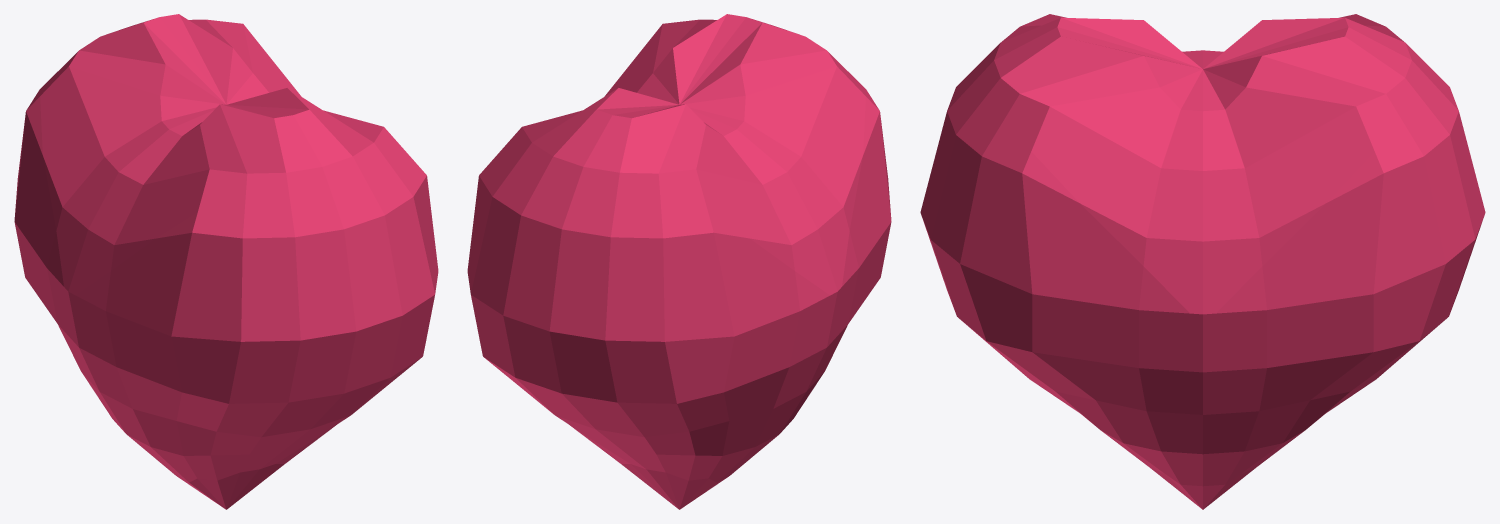
File: heart.fbx
3 views of the same model, side by side, from view 1: azimuth 30°, elevation 25°; view 2: azimuth 150°, elevation 25°; view 3: azimuth 270°, elevation 25° (orthographic). The views are drawn at different scales.
Parts seen in each view (by area): view 1: Sphere, Sphere.001; view 2: Sphere, Sphere.001; view 3: Sphere, Sphere.001.
Boxes of the visible parts, <box> form: Sphere: <box>14,64,438,509</box>; Sphere.001: <box>40,14,412,300</box>; Sphere: <box>467,64,891,509</box>; Sphere.001: <box>493,14,865,300</box>; Sphere: <box>920,47,1485,509</box>; Sphere.001: <box>993,14,1412,323</box>.
Size of the model in its own units: 189 by 253 by 268.
